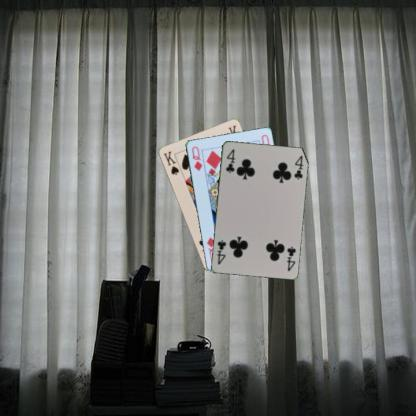4c: (222, 146, 236, 174), (284, 244, 298, 272)
Ks: (160, 148, 180, 176)
Qd: (188, 144, 204, 172)
